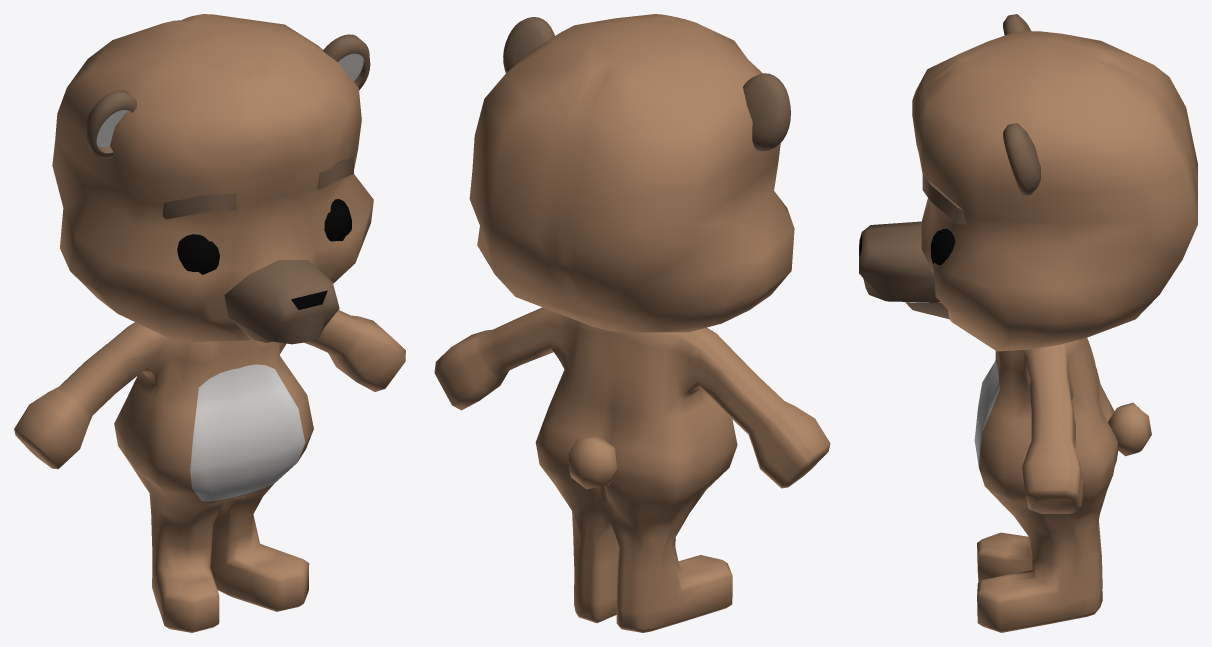
The model's file is Bear.fbx.
The picture shows the model from 3 angles, left to right: view 1: azimuth 30°, elevation 25°; view 2: azimuth 150°, elevation 25°; view 3: azimuth 270°, elevation 25°; orthographic projection. The views are drawn at different scales.
Visible parts, largest first — view 1: Cube, Cube.001; view 2: Cube, Cube.001, Cube.002; view 3: Cube, Cube.001, Cube.002.
Boxes of the visible parts, x1=… form: Cube: x1=52, y1=14, x2=373, y2=344; Cube.001: x1=14, y1=310, x2=405, y2=632; Cube: x1=469, y1=14, x2=794, y2=332; Cube.001: x1=434, y1=307, x2=830, y2=632; Cube.002: x1=568, y1=436, x2=617, y2=489; Cube: x1=859, y1=14, x2=1197, y2=351; Cube.001: x1=974, y1=337, x2=1118, y2=632; Cube.002: x1=1108, y1=402, x2=1151, y2=456.
Size of the model in its own units: 186 by 266 by 149.
